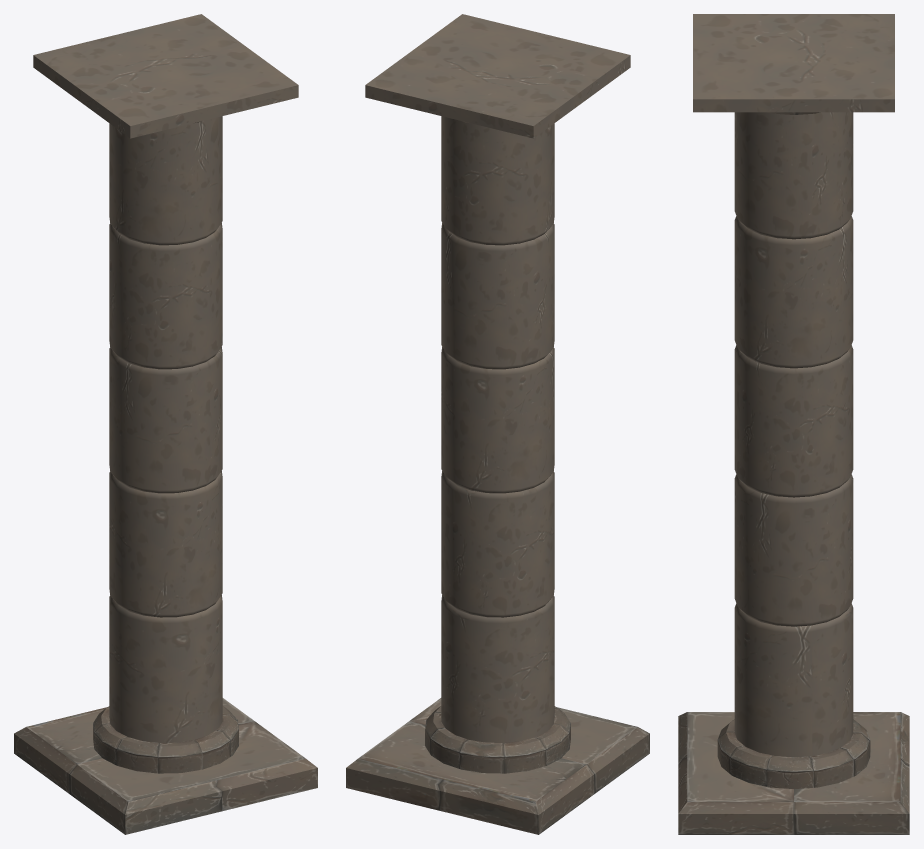
The model's file is Ruins_Pillar_Intact_01a.fbx.
3 renders of one model, left to right at view 1: azimuth 30°, elevation 25°; view 2: azimuth 150°, elevation 25°; view 3: azimuth 270°, elevation 25°, orthographic. The views are drawn at different scales.
Parts seen in each view (by area): view 1: Ruins_Pillar_Intact_01a; view 2: Ruins_Pillar_Intact_01a; view 3: Ruins_Pillar_Intact_01a.
Boxes of the visible parts, x1,y1,x2,y2 form: Ruins_Pillar_Intact_01a: [14, 14, 317, 834]; Ruins_Pillar_Intact_01a: [346, 14, 649, 834]; Ruins_Pillar_Intact_01a: [678, 14, 909, 834].
Size of the model in its own units: 3.9 by 13.55 by 3.9.
1 material, 1 textured.
